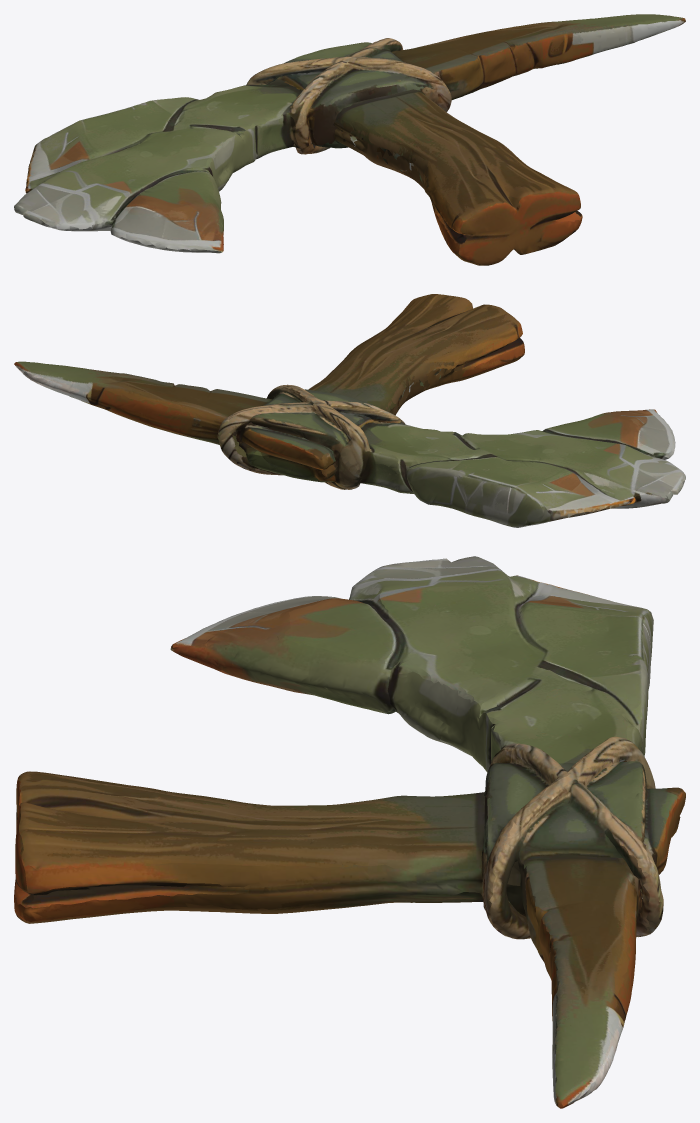
Rendered from tool_pickaxe_stone.glb.
The picture shows the model from 3 angles, top to bottom: view 1: azimuth 30°, elevation 25°; view 2: azimuth 150°, elevation 25°; view 3: azimuth 270°, elevation 25°; orthographic projection. The views are drawn at different scales.
Parts seen in each view (by area): view 1: tool_pickaxe_stone; view 2: tool_pickaxe_stone; view 3: tool_pickaxe_stone.
Part boxes in pixels (x1,y1,x2,y2): tool_pickaxe_stone: (14, 14, 685, 265); tool_pickaxe_stone: (14, 294, 685, 527); tool_pickaxe_stone: (14, 556, 685, 1108).
Size of the model in its own units: 0.65 by 0.0722 by 0.3392.
Materials: 1 (1 with a texture image).
